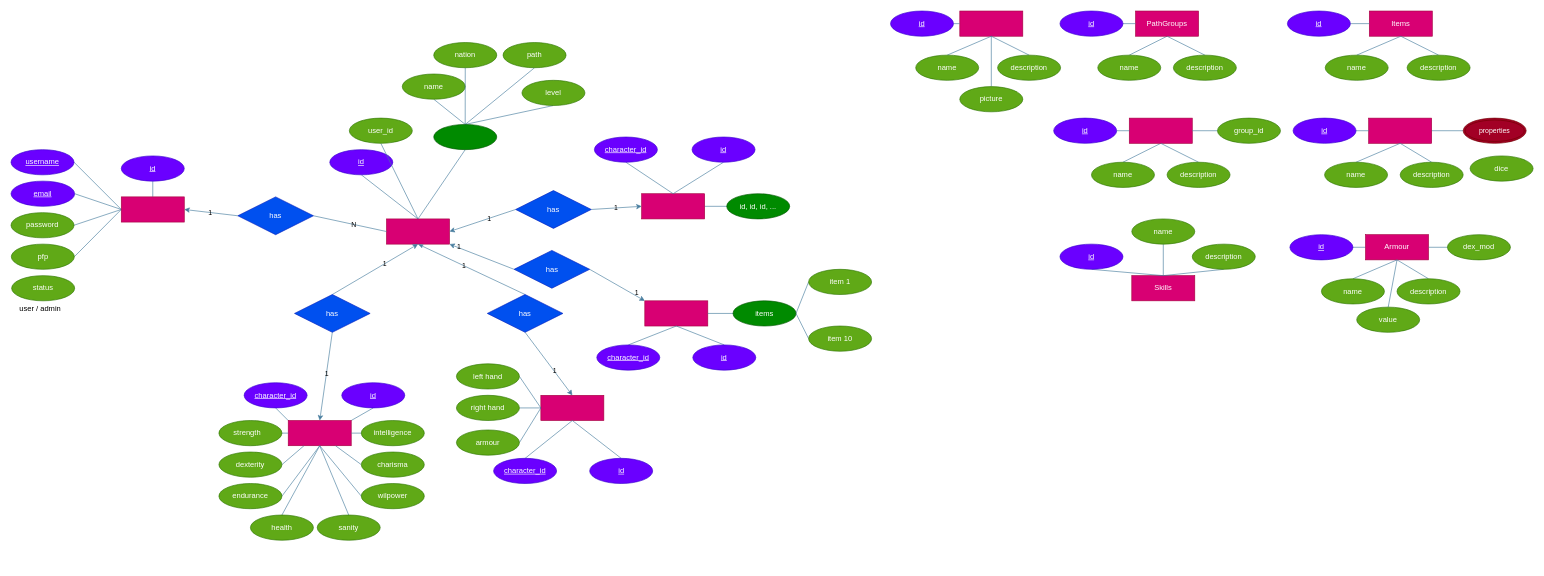
Image size: 1544x576. Some labels were removed from this diagram. Here are the shapes that lost their labels. From the top down, the box of each, then its label:
(959, 10, 1023, 36): Nations
(433, 124, 497, 150): data
(1129, 117, 1192, 143): Paths
(1368, 117, 1432, 143): Weapons
(121, 196, 184, 222): User
(641, 193, 705, 219): CharacterSkills
(386, 218, 450, 244): Character
(644, 300, 708, 326): Inventory
(540, 395, 604, 421): Equipment
(288, 420, 351, 446): Stats
